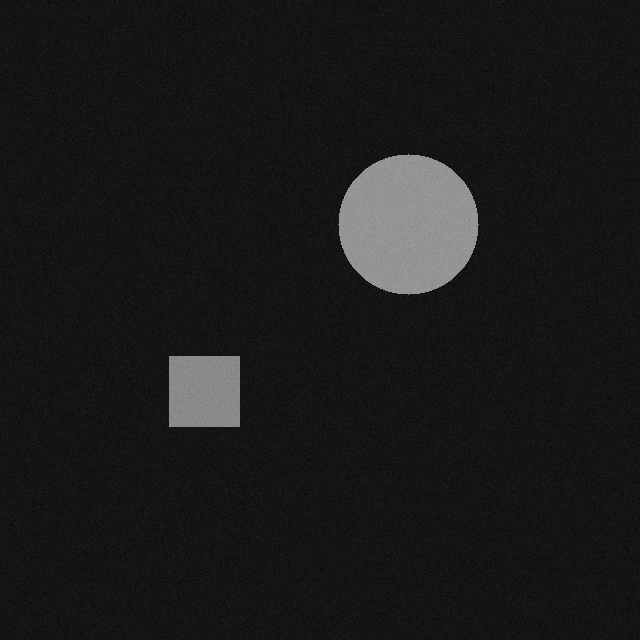circle: (334, 149, 474, 289)
square: (165, 351, 235, 421)
